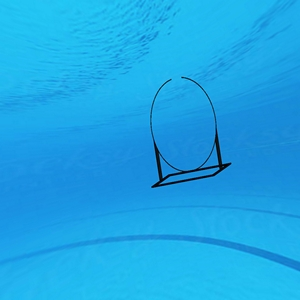circle: (148, 74, 233, 188)
